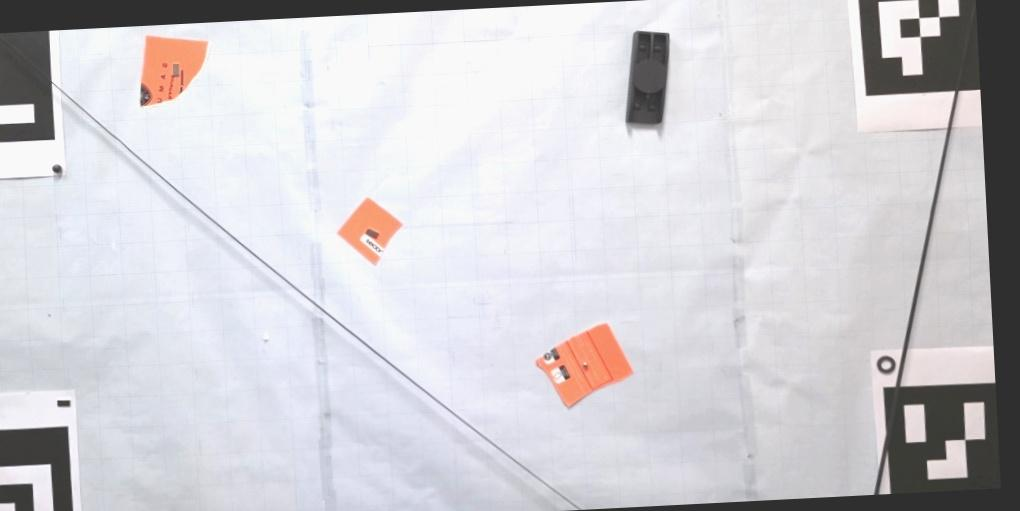obstacle: (535, 323, 633, 409), (140, 37, 213, 108), (337, 196, 404, 265), (627, 32, 671, 124)
